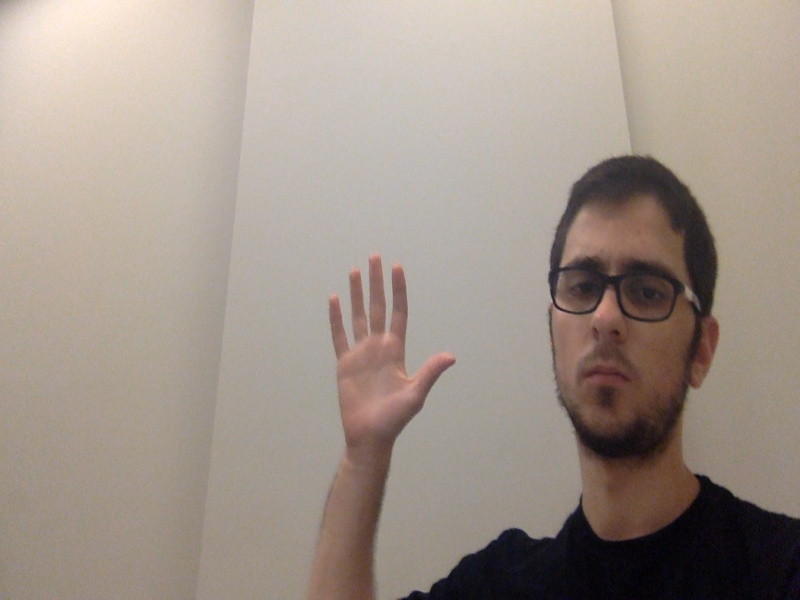5-hand: (325, 253, 460, 445)
